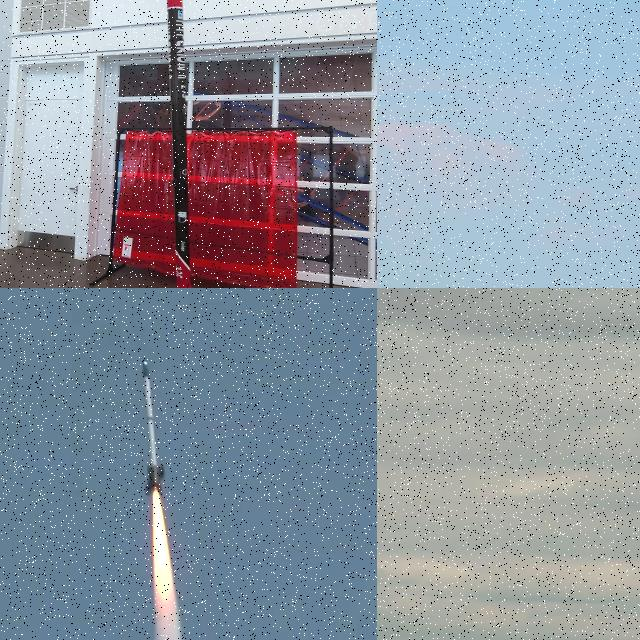Rocket: (167, 0, 193, 288), (142, 360, 165, 496)
